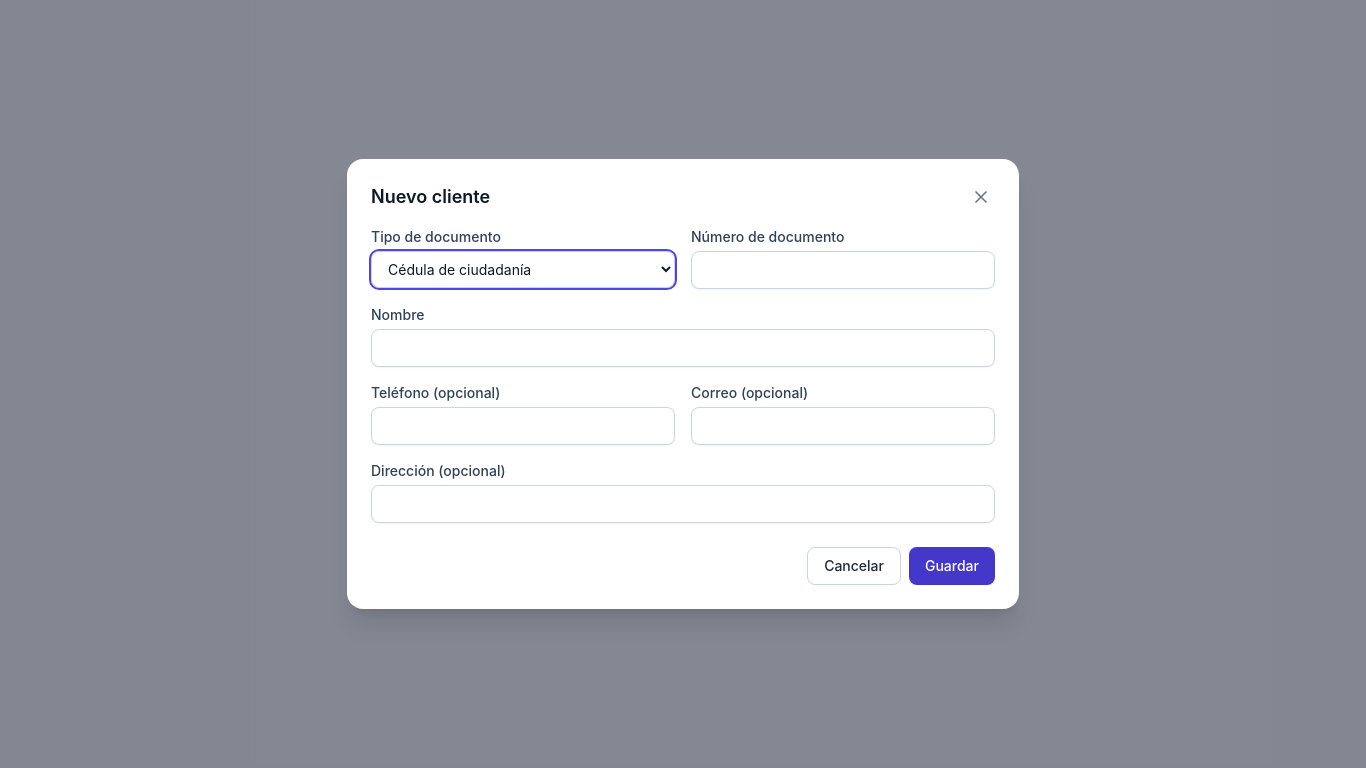
Test case: CustomerFormModal › validates the required fields, phone and email
The image size is (1366, 768).
Type "300-ABC" into the field labelled "Teléfono (opcional)" at coordinates (523, 426), box [371,407,675,445]
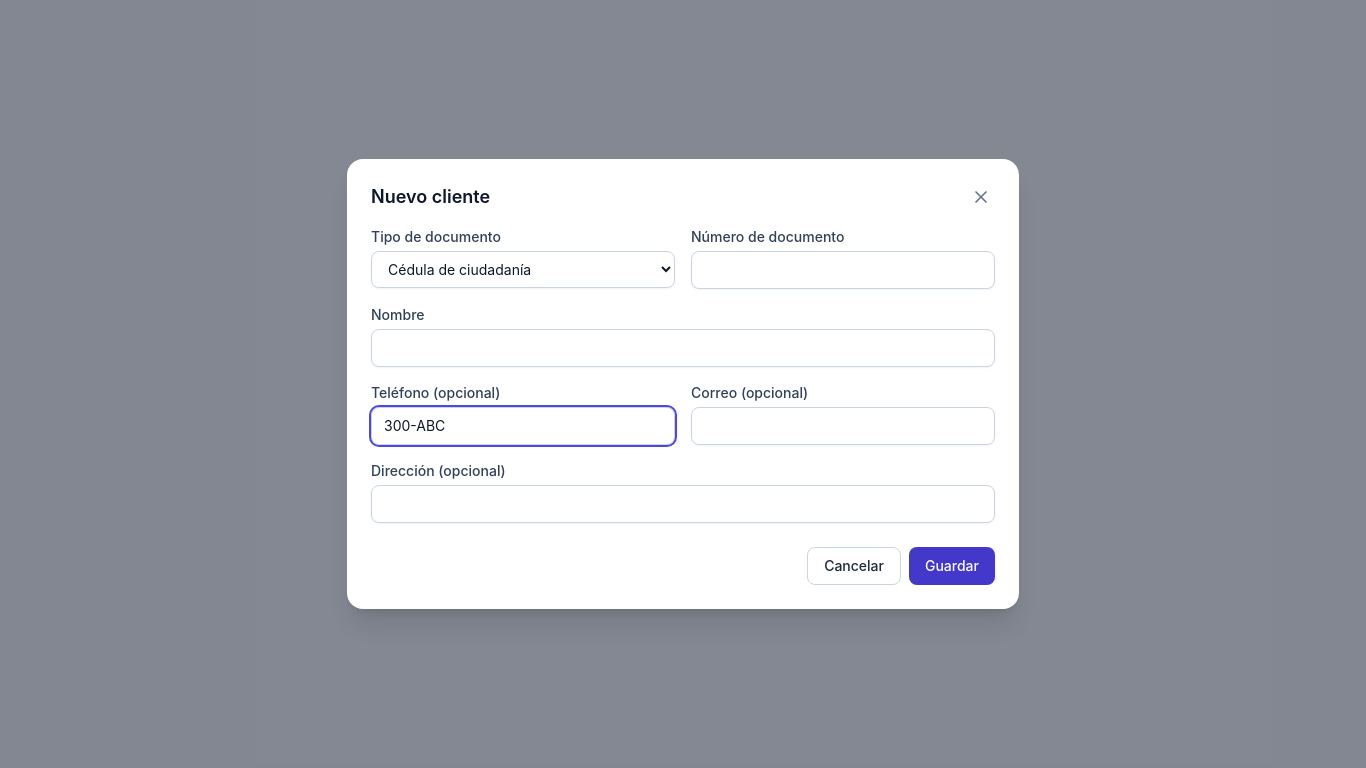
Type "no-es-correo" into the field labelled "Correo (opcional)" at coordinates (843, 426), box [691,407,995,445]
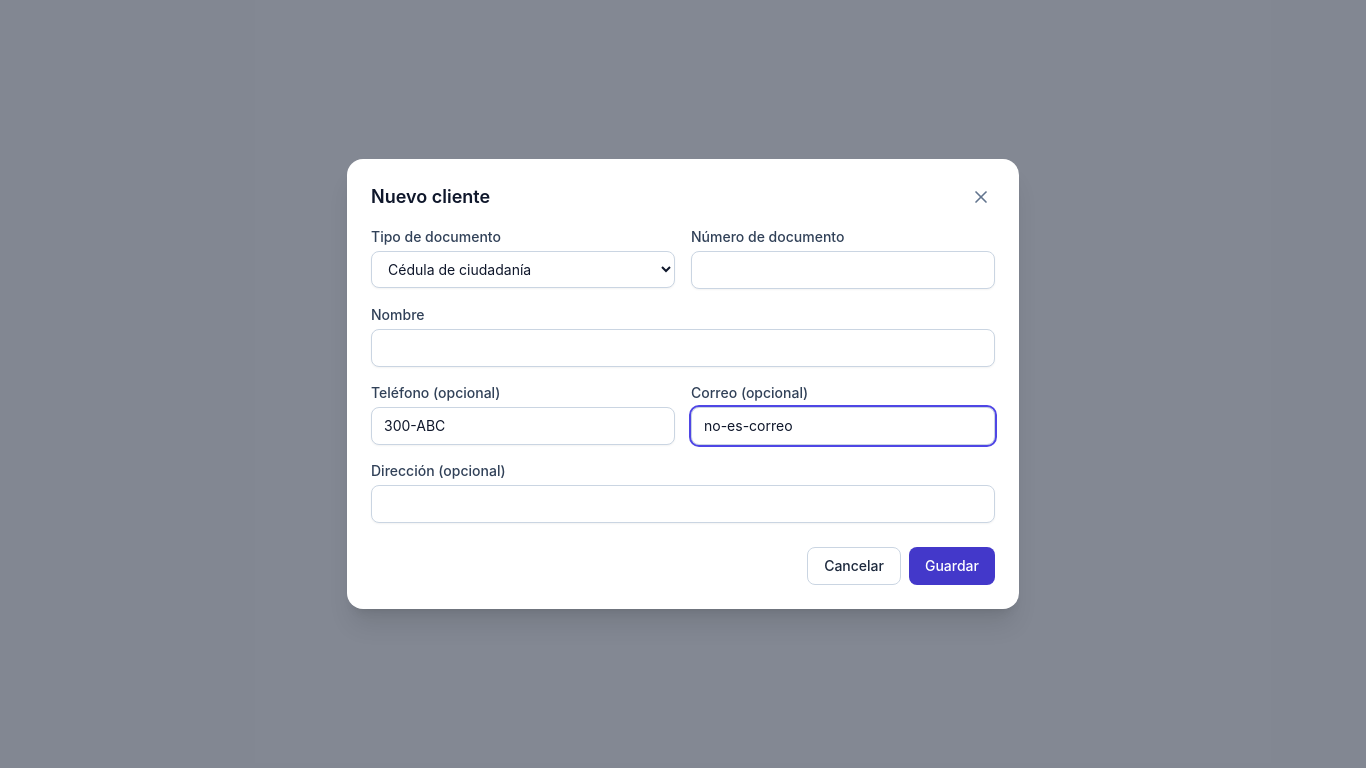
Click the button "Guardar" at coordinates (952, 566), box [909,547,995,585]
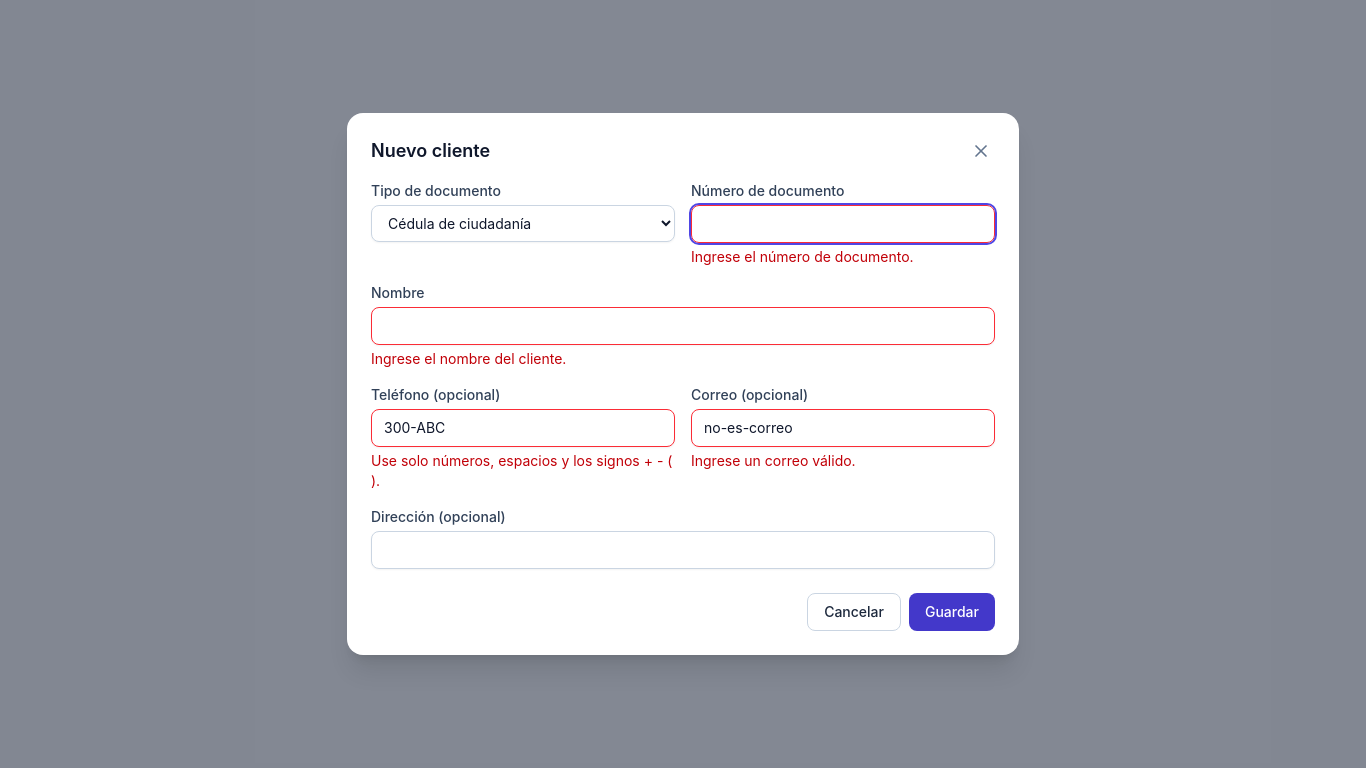
Expected: the text "Ingrese el número de documento." is shown, [691,248,914,265]
Expected: the text "Ingrese el nombre del cliente." is shown, [371,350,566,367]
Expected: the text "Use solo números, espacios y los signos + - ( )." is shown, [371,451,675,491]
